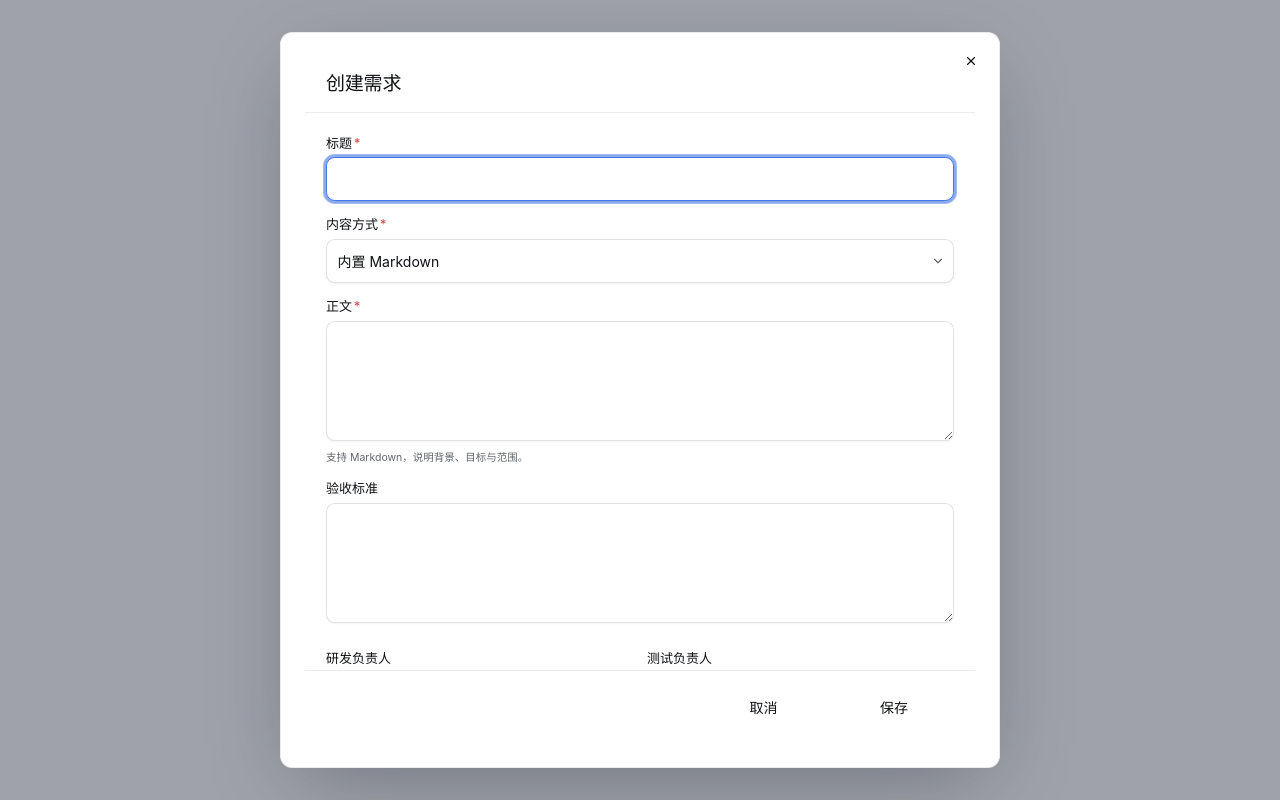
Scenario: RequirementForm › 标题填写后继续定位到正文错误
The width and height of the screenshot is (1280, 800).
Type "导入失败时提示不明确" into the field labelled "标题 *" at (640, 179), box [326, 157, 954, 201]
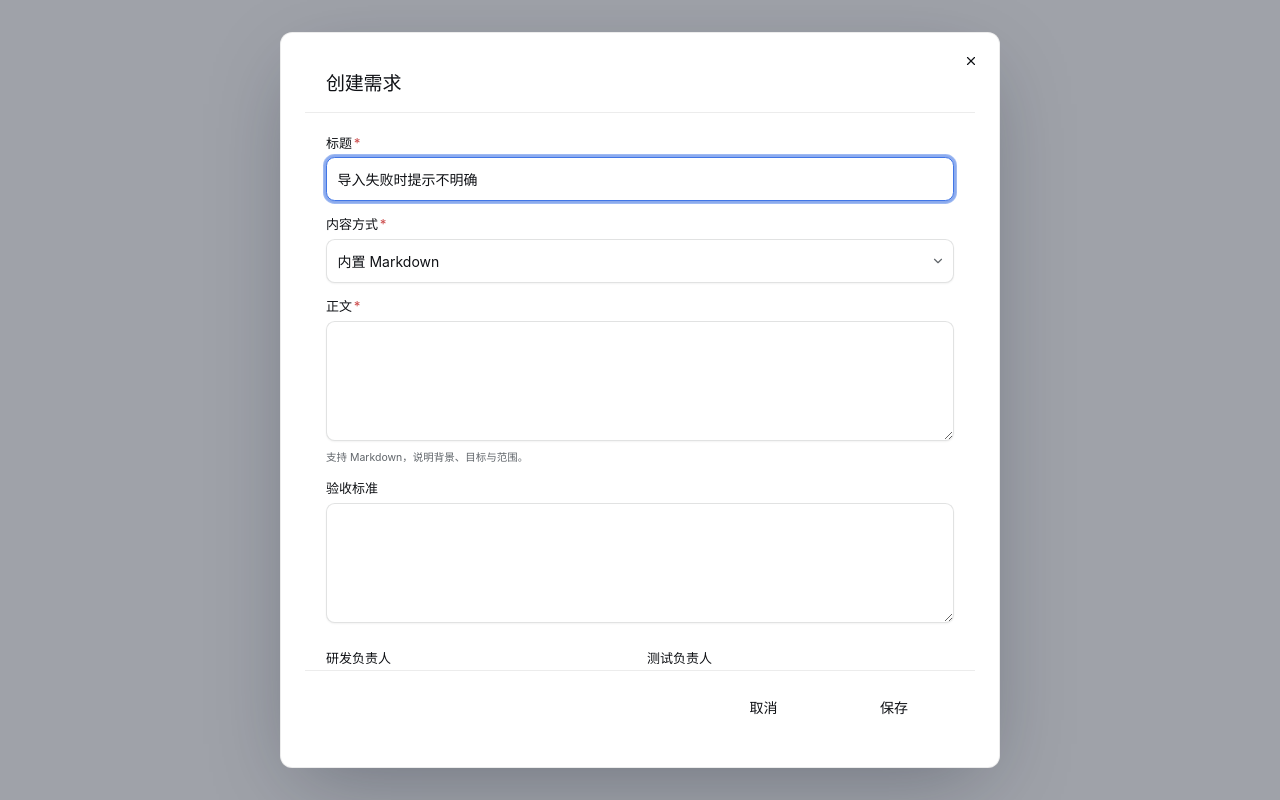
Click the button "保存" at (894, 707), box [834, 685, 954, 729]
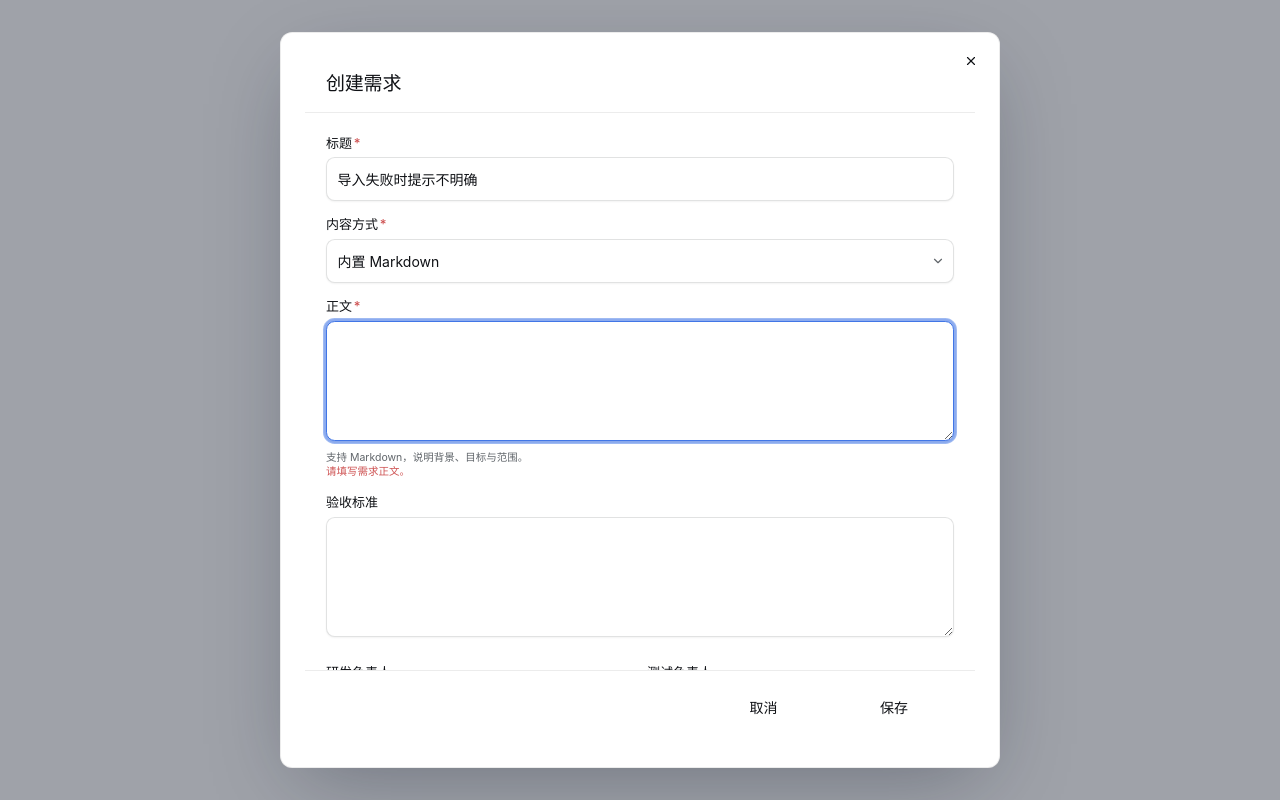
expect the message shows "请填写需求正文": met, box [326, 465, 410, 478]
